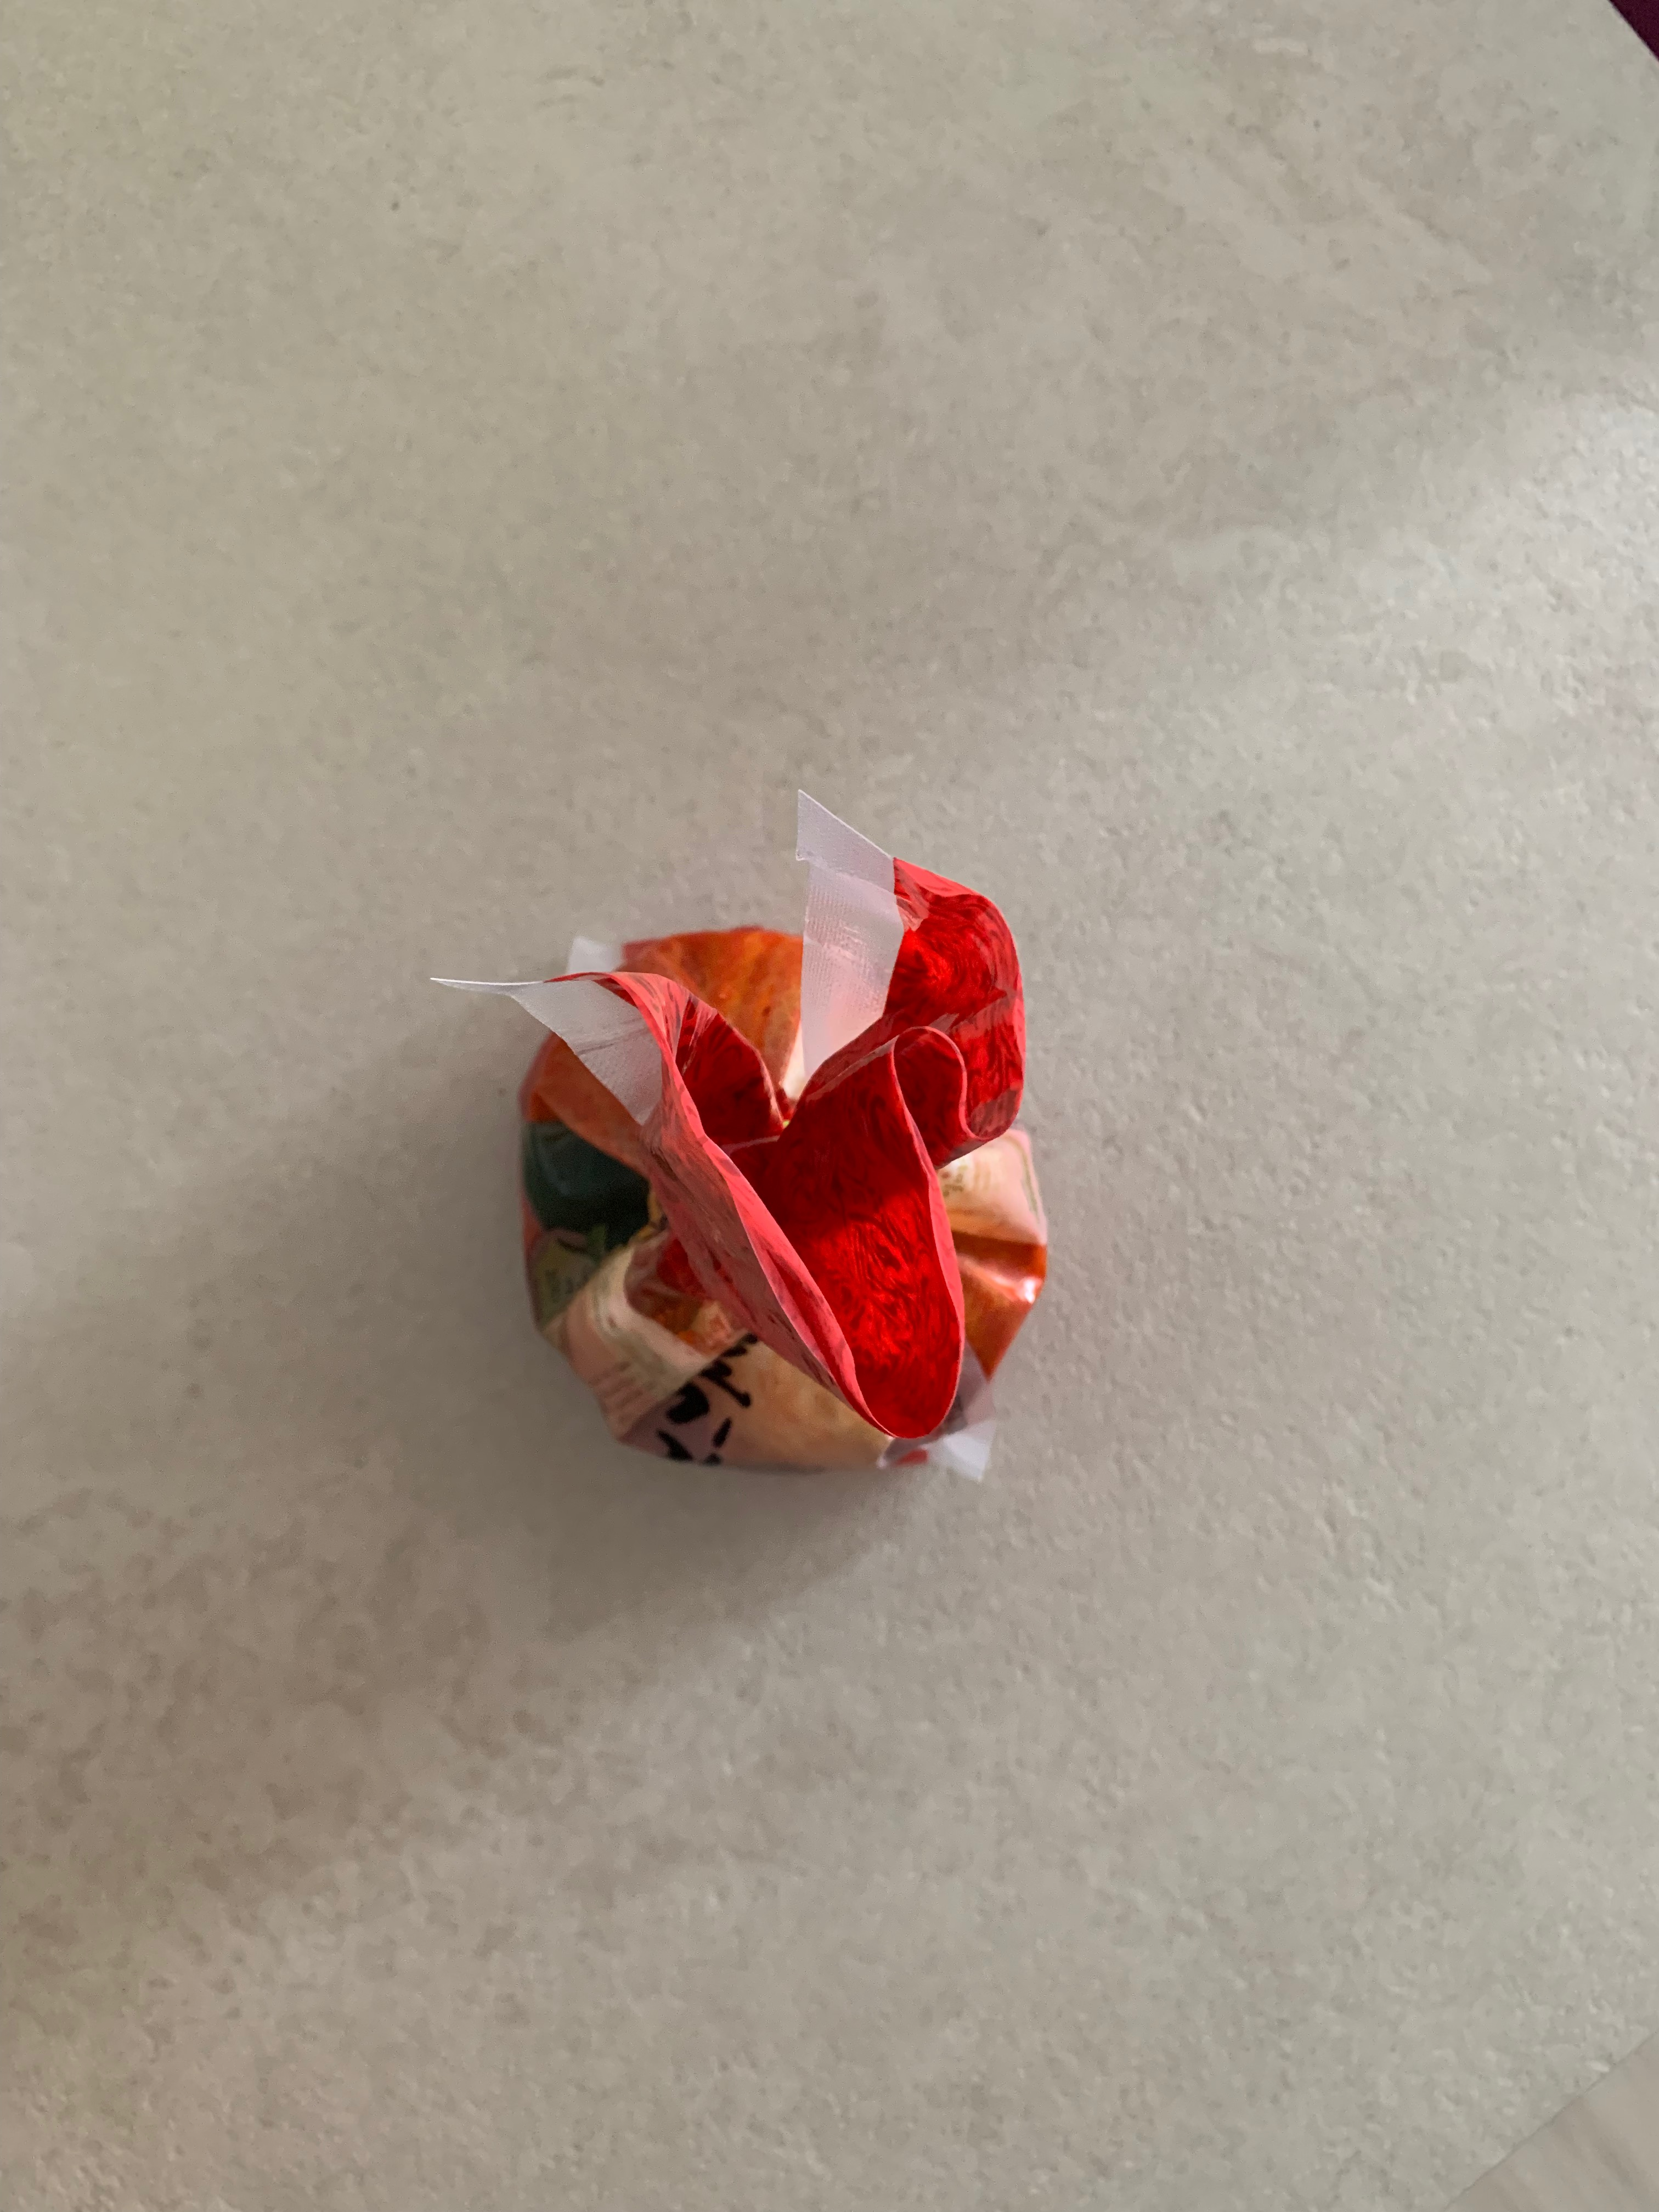kimchi: (523, 862, 1053, 1470)
